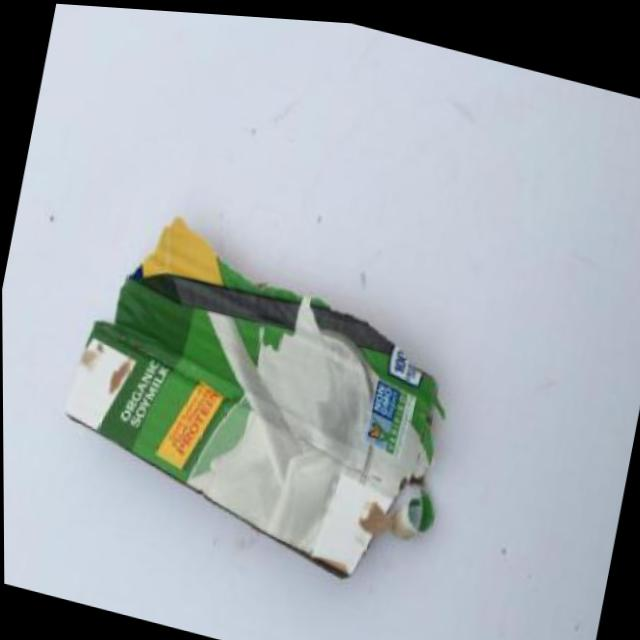box: (20, 175, 510, 625)
